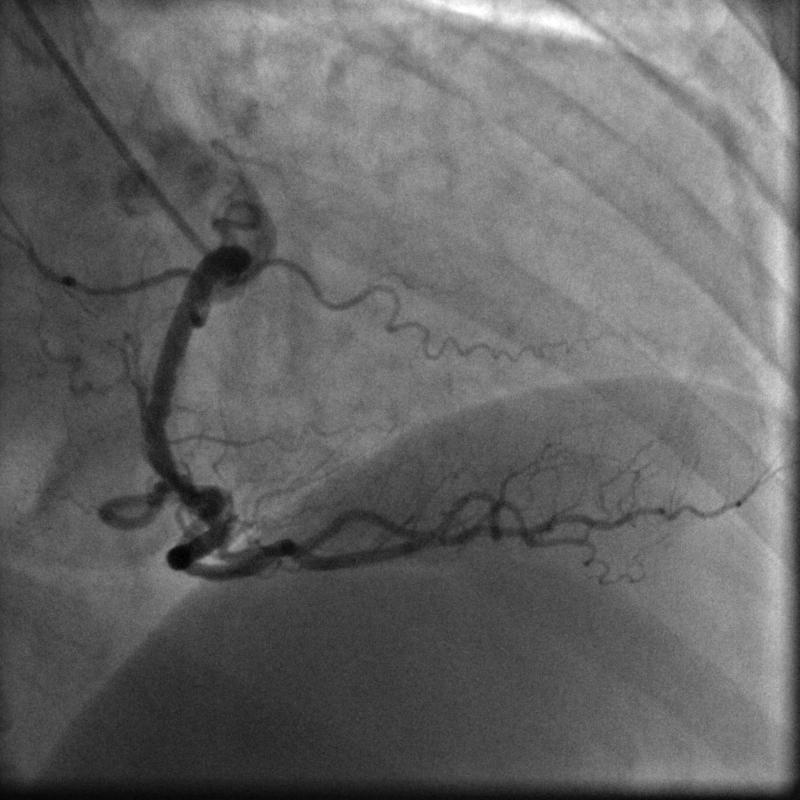Stenosis: (147, 467, 202, 502)
